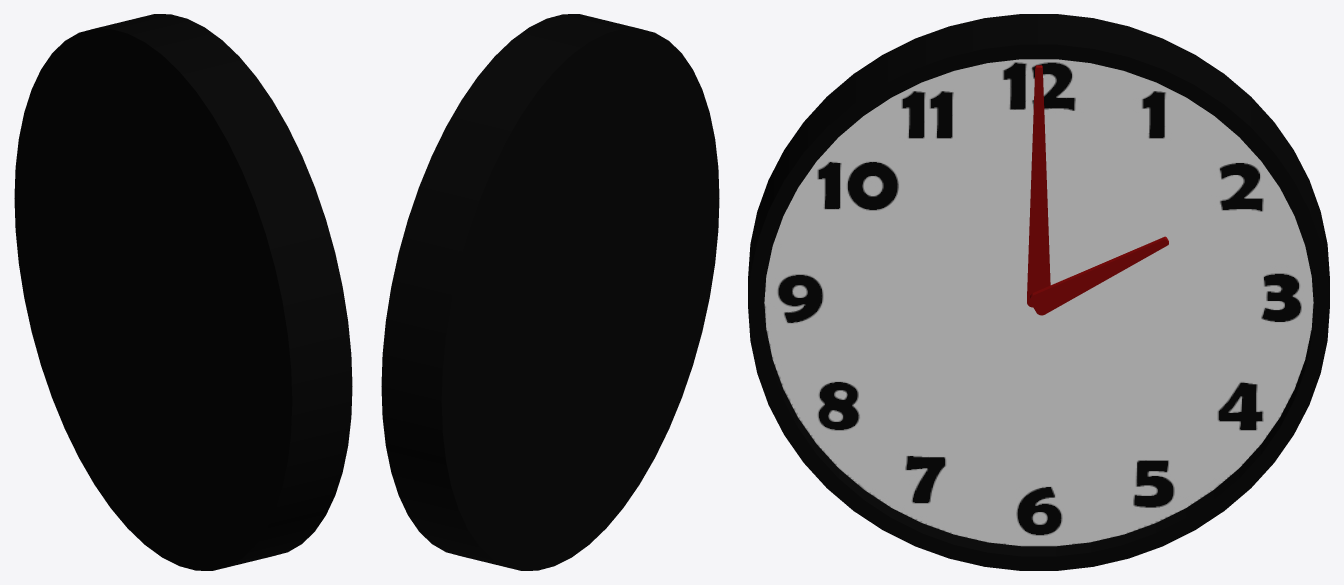
The model's file is clock.FBX.
3 views of the same model, side by side, from view 1: azimuth 30°, elevation 25°; view 2: azimuth 150°, elevation 25°; view 3: azimuth 270°, elevation 25° (orthographic). The views are drawn at different scales.
Visible parts, largest first — view 1: clock; view 2: clock; view 3: clock, minute hand, hour hand.
Part boxes in pixels (x1,y1,x2,y2): clock: (14, 14, 352, 570); clock: (381, 14, 719, 570); clock: (748, 14, 1329, 570); minute hand: (1027, 65, 1050, 307); hour hand: (1030, 236, 1168, 315).
Bounding box in the file's own units: 1.5 × 11.98 × 12.
Materials: 2 (1 with a texture image).
